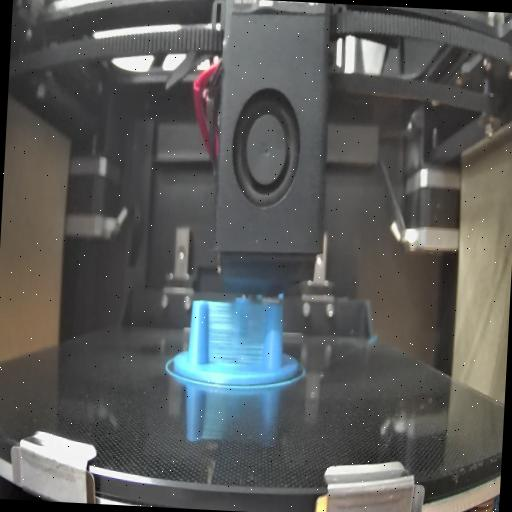stringing: (204, 301, 268, 376)
